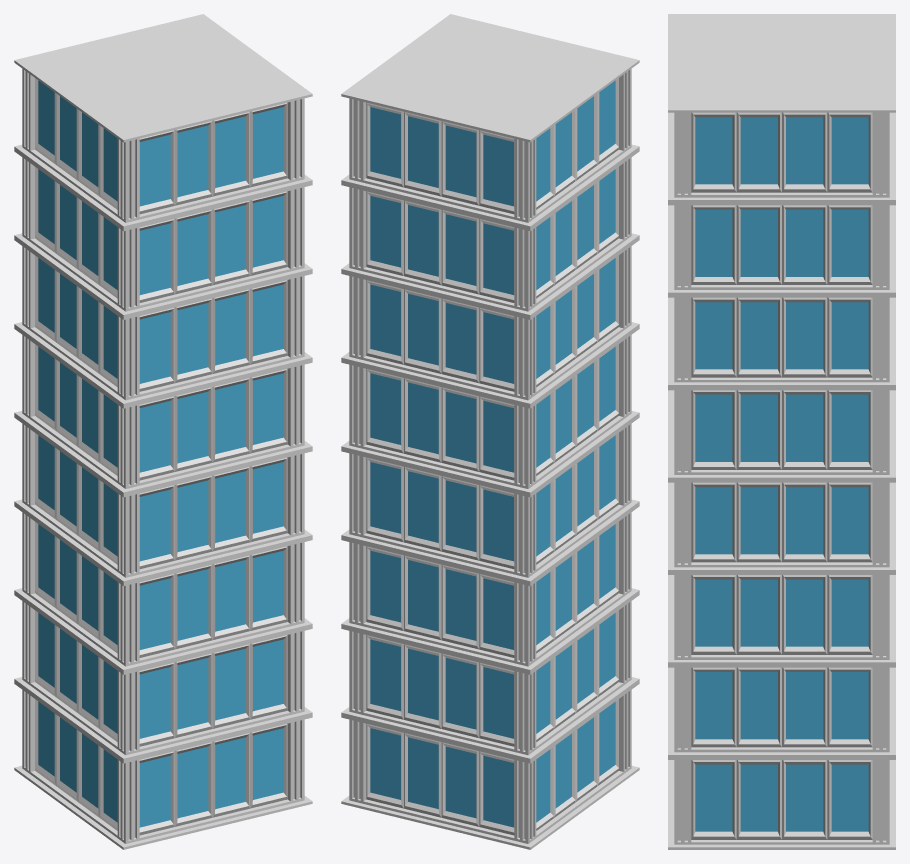
The model's file is building3.fbx.
3 renders of one model, left to right at view 1: azimuth 30°, elevation 25°; view 2: azimuth 150°, elevation 25°; view 3: azimuth 270°, elevation 25°, orthographic. The views are drawn at different scales.
Visible parts, largest first — view 1: Cube.172, Cube.046, Cube.068, Cube.134, Cube.024, Cube.156, Cube.090, Cube.002, Cube.112, Cube.099, Cube.011, Cube.033 (+92 smaller); view 2: Cube.172, Cube.046, Cube.068, Cube.134, Cube.024, Cube.156, Cube.002, Cube.090, Cube.112, Cube.105, Cube.017, Cube.039 (+92 smaller); view 3: Cube.172, Cube.025, Cube.026, Cube.069, Cube.070, Cube.113, Cube.114, Cube.157, Cube.158, Cube.111, Cube.115, Cube.155 (+52 smaller).
Part boxes in pixels (<box>): Cube.172: <box>14,14,312,142</box>; Cube.046: <box>14,588,312,672</box>; Cube.068: <box>14,499,312,583</box>; Cube.134: <box>14,233,312,317</box>; Cube.024: <box>14,677,312,761</box>; Cube.156: <box>14,144,312,228</box>; Cube.090: <box>14,411,312,494</box>; Cube.002: <box>14,765,312,849</box>; Cube.112: <box>14,322,312,406</box>; Cube.099: <box>174,387,212,471</box>; Cube.011: <box>174,742,212,826</box>; Cube.033: <box>174,653,212,737</box>; Cube.172: <box>341,14,639,142</box>; Cube.046: <box>341,588,639,672</box>; Cube.068: <box>341,499,639,583</box>; Cube.134: <box>341,233,639,317</box>; Cube.024: <box>341,677,639,761</box>; Cube.156: <box>341,144,639,228</box>; Cube.002: <box>341,765,639,849</box>; Cube.090: <box>341,411,639,494</box>; Cube.112: <box>341,322,639,406</box>; Cube.105: <box>441,387,479,471</box>; Cube.017: <box>441,742,479,826</box>; Cube.039: <box>441,653,479,737</box>; Cube.172: <box>668,14,895,112</box>; Cube.025: <box>691,667,736,747</box>; Cube.026: <box>827,667,872,747</box>; Cube.069: <box>691,482,736,562</box>; Cube.070: <box>827,482,872,562</box>; Cube.113: <box>691,297,736,377</box>; Cube.114: <box>827,297,872,377</box>; Cube.157: <box>691,112,736,192</box>; Cube.158: <box>827,112,872,192</box>; Cube.111: <box>736,297,781,377</box>; Cube.115: <box>782,297,827,377</box>; Cube.155: <box>736,112,781,192</box>.
Bounding box in the file's own units: 4018 × 14400 × 4018.
